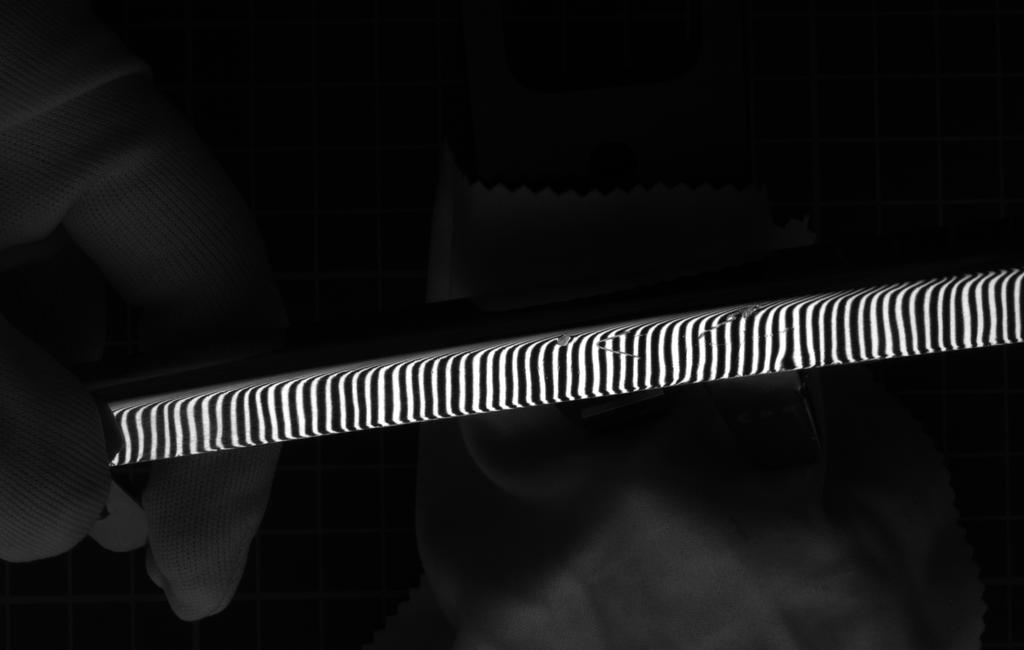Pierced: (548, 332, 576, 353)
Scratch: (683, 300, 773, 347), (593, 326, 651, 365)
